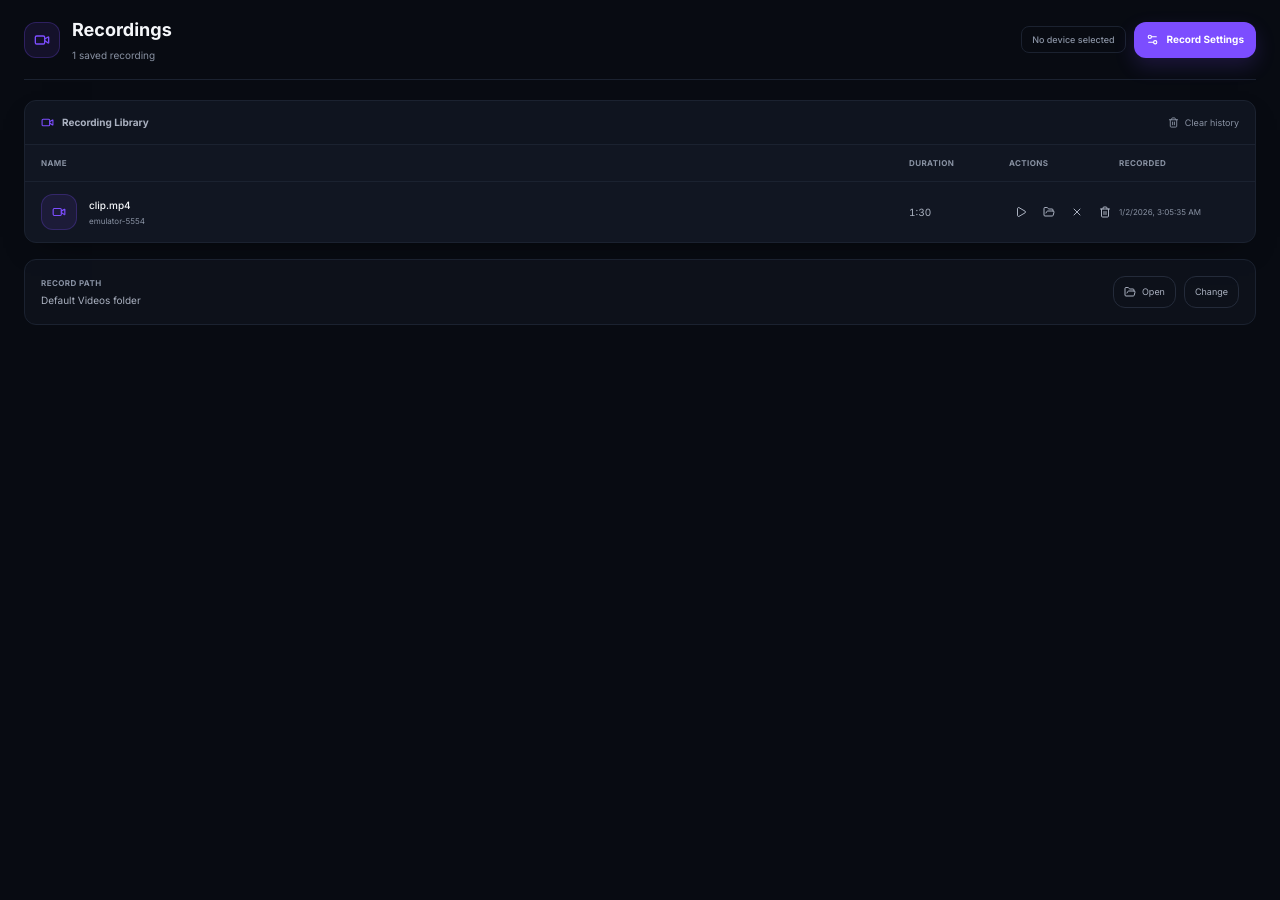
Test case: RecordingsPage › asks for a device in the drawer when none is selected
The width and height of the screenshot is (1280, 900).
Expected: the text "No device selected" is shown, 1021,26 -> 1126,53
Click the button "Record Settings".
click(1195, 40)  # box 1134,22 -> 1256,58
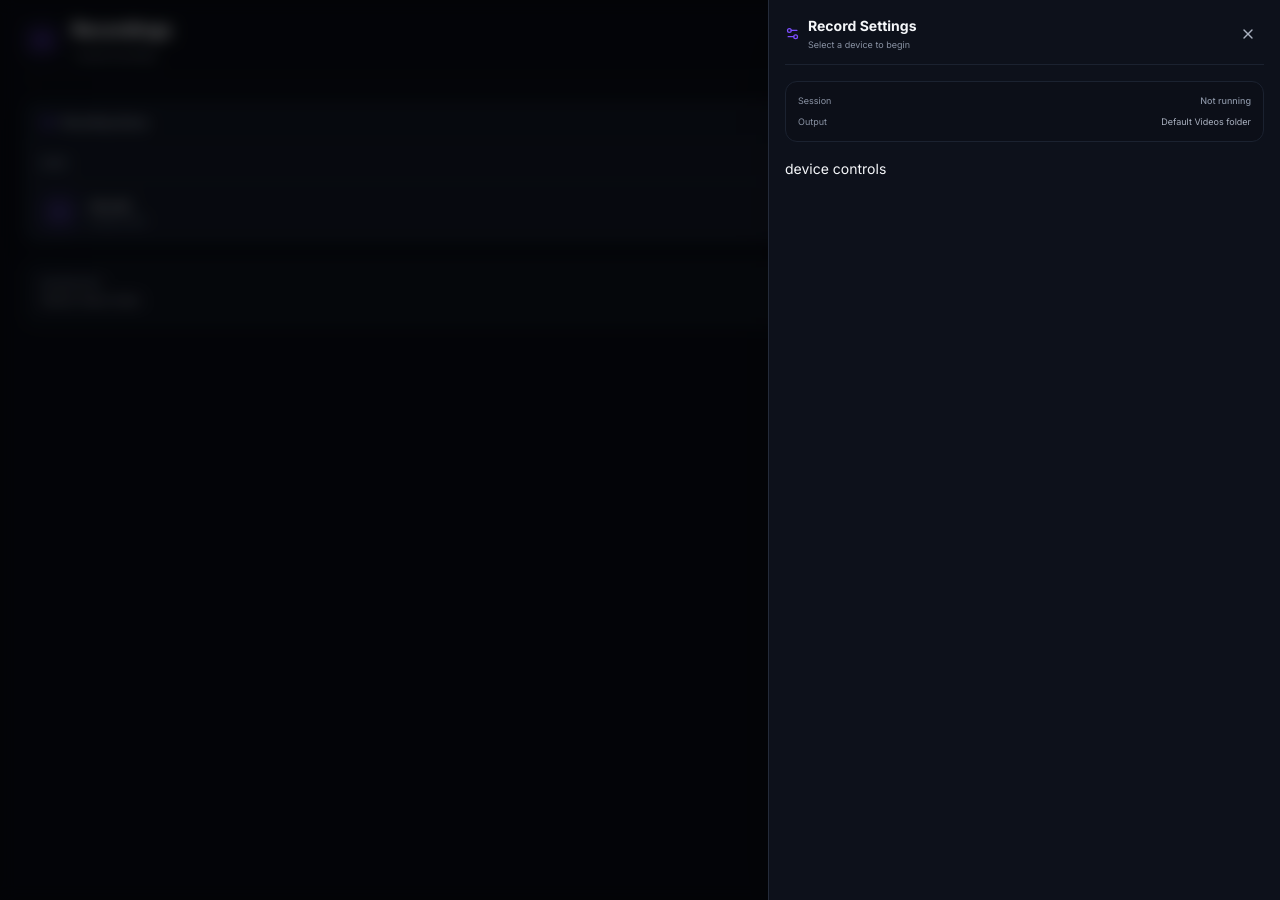
Expected: the text "Select a device to begin" is shown, 808,38 -> 916,52
